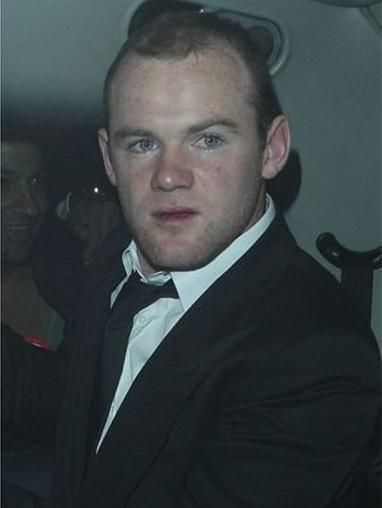Drunk: (100, 54, 263, 268)
